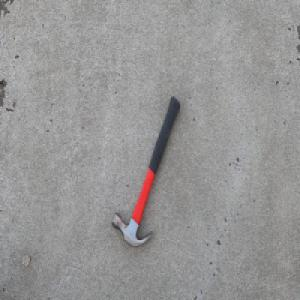Hammer: (110, 95, 180, 249)
